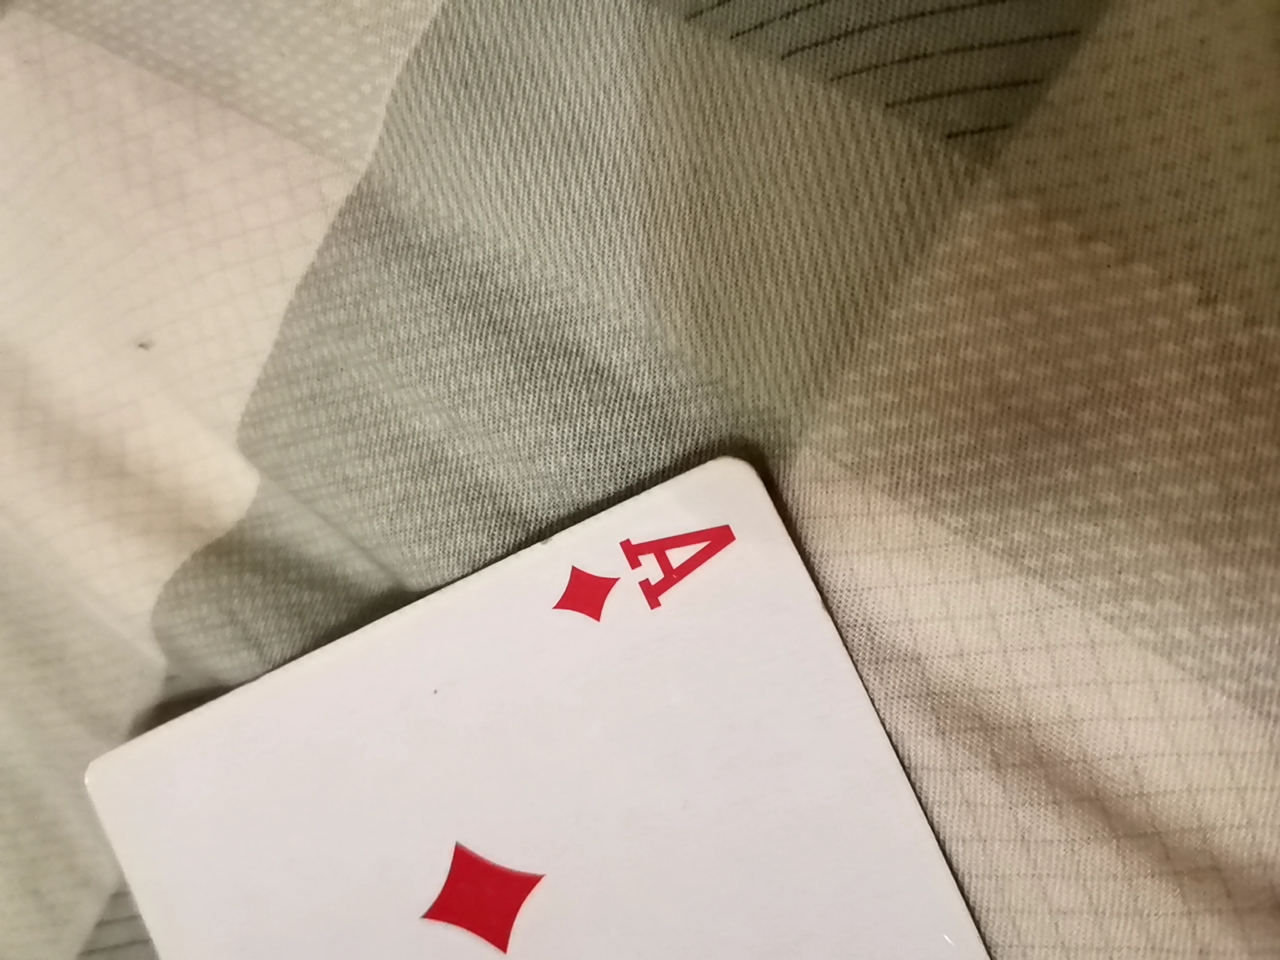fk a: (100, 466, 1022, 954)
